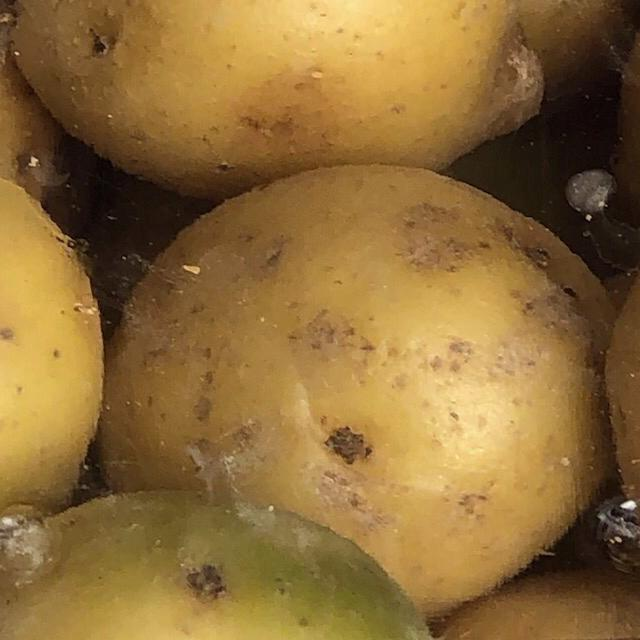potato: (80, 145, 640, 580), (0, 0, 552, 205)
